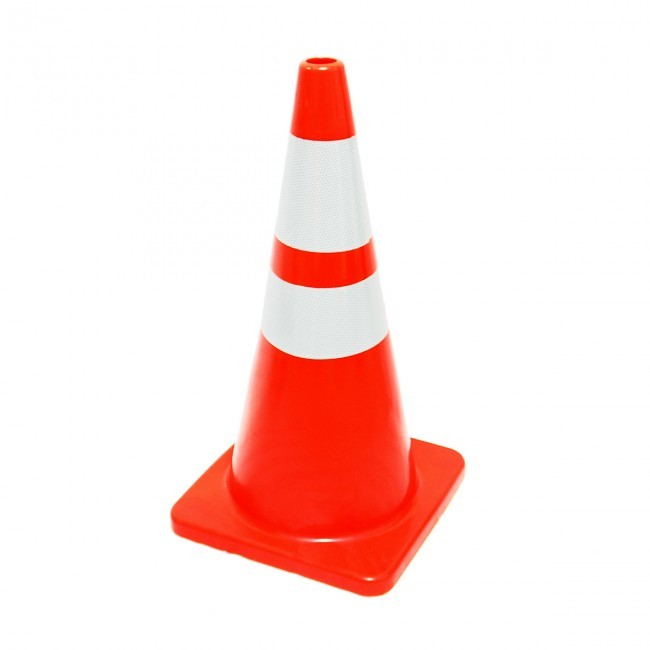cones: (164, 54, 469, 604)
